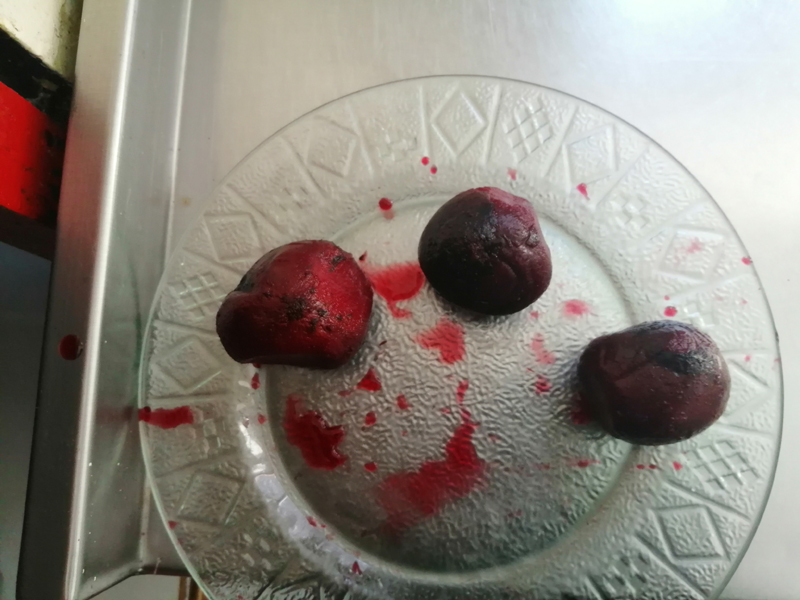beet: (207, 238, 382, 383), (412, 174, 557, 335), (574, 309, 734, 454)
